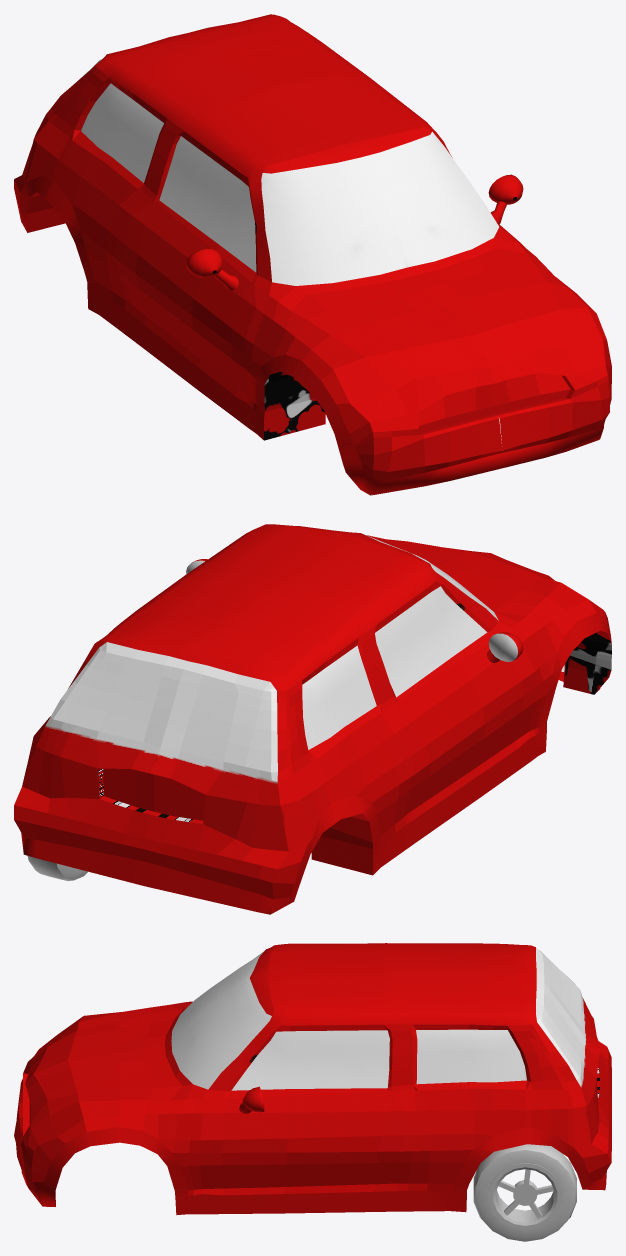
The model's file is CarEelis.FBX.
3 renders of one model, top to bottom at view 1: azimuth 30°, elevation 25°; view 2: azimuth 150°, elevation 25°; view 3: azimuth 270°, elevation 25°, orthographic. The views are drawn at different scales.
Parts seen in each view (by area): view 1: Line003; view 2: Line003, Tube001; view 3: Line003, Tube001.
Boxes of the visible parts, x1,y1,x2,y2 form: Line003: (14,14,611,495); Line003: (14,524,611,914); Tube001: (27,856,87,881); Line003: (14,943,611,1215); Tube001: (473,1144,576,1241).
Size of the model in its own units: 87.52 by 65.73 by 164.
